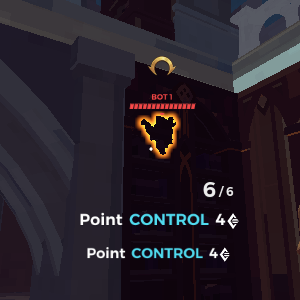model: (134, 110, 181, 154)
